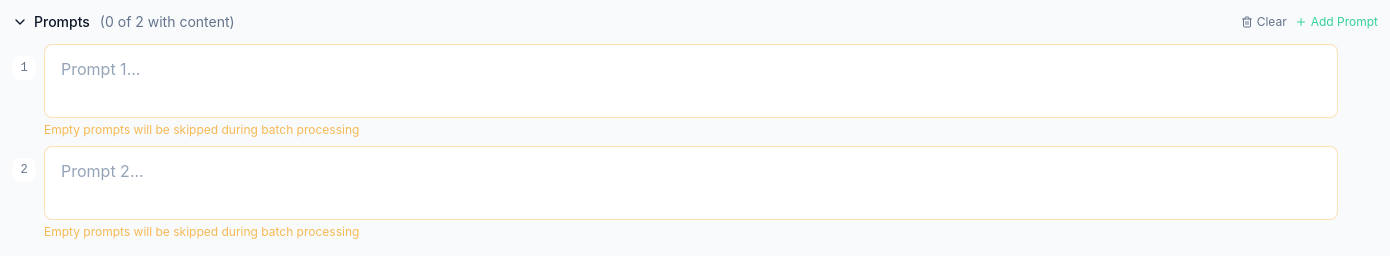
Scenario: PromptListEditor collapse › handles an empty staging box
Click the button "Prompts (0 of 2 with content)".
click(123, 22)  # box x1=12 y1=12 x2=235 y2=32
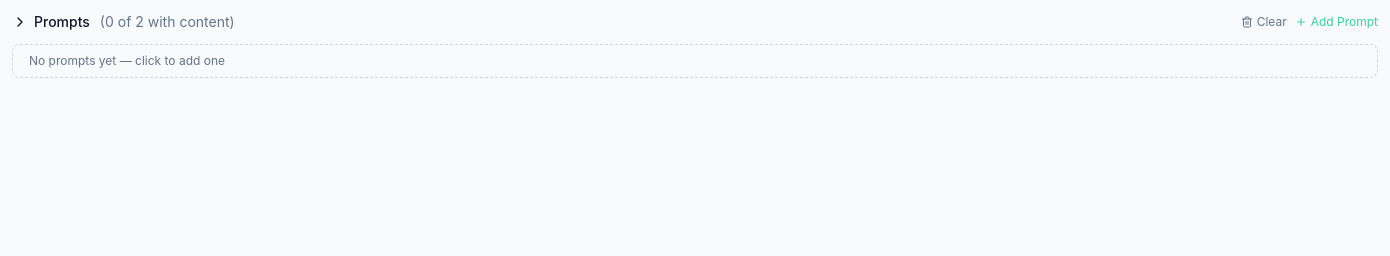
Expected: the button "No prompts yet — click to add one" is shown, x1=12 y1=44 x2=1378 y2=78
